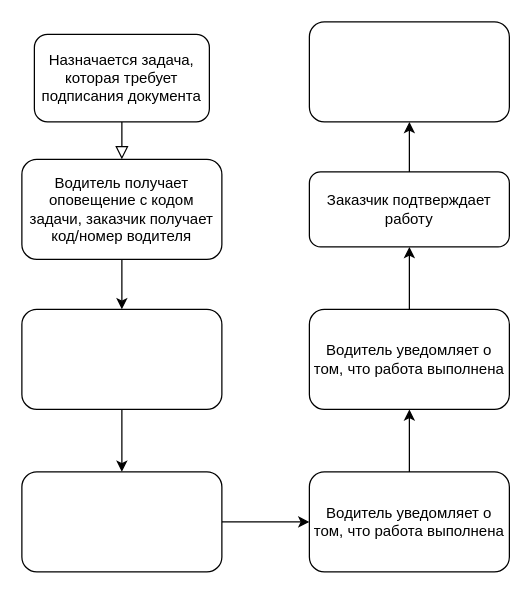
This 531x594 diagram has some shape labels left out. Each missing label, with the centre of its shape:
"Водитель подтверждает начало работы" belongs at pixel 121 358.
"Заказчик получает уведомление о старте работ" belongs at pixel 121 521.
"Формируется накладная с ЭЦП, которая основывается на данных водителя и заказчика" belongs at pixel 408 71.
